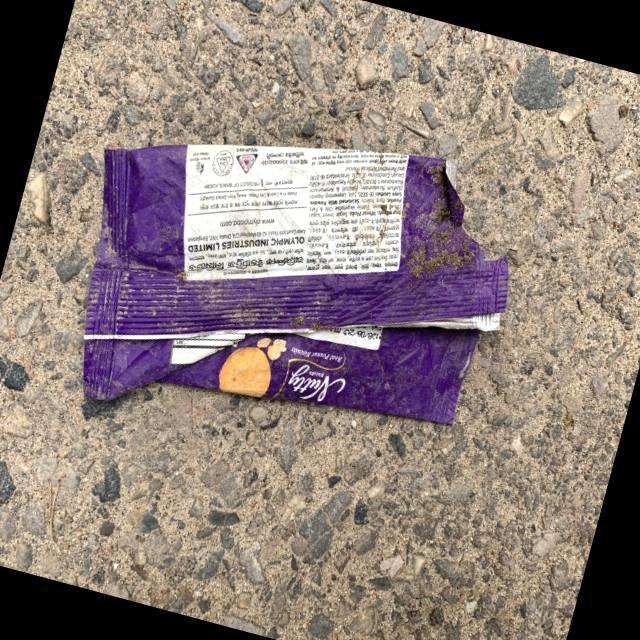packet: (125, 157, 458, 420)
